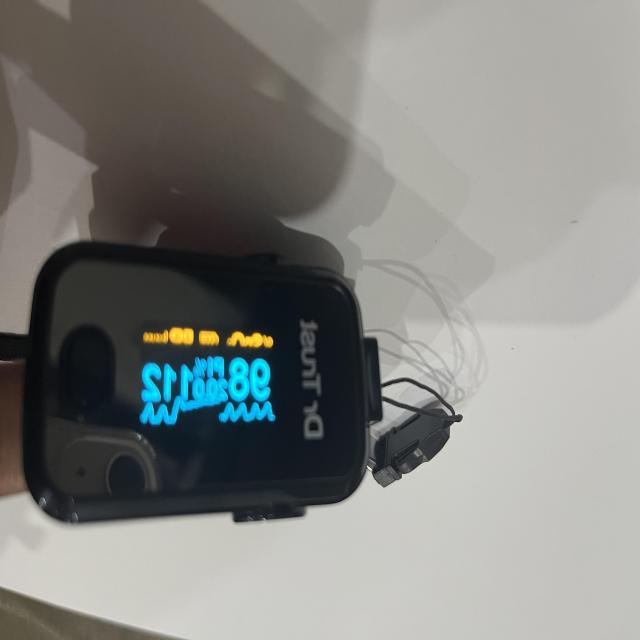spo2: (21, 241, 382, 527)
